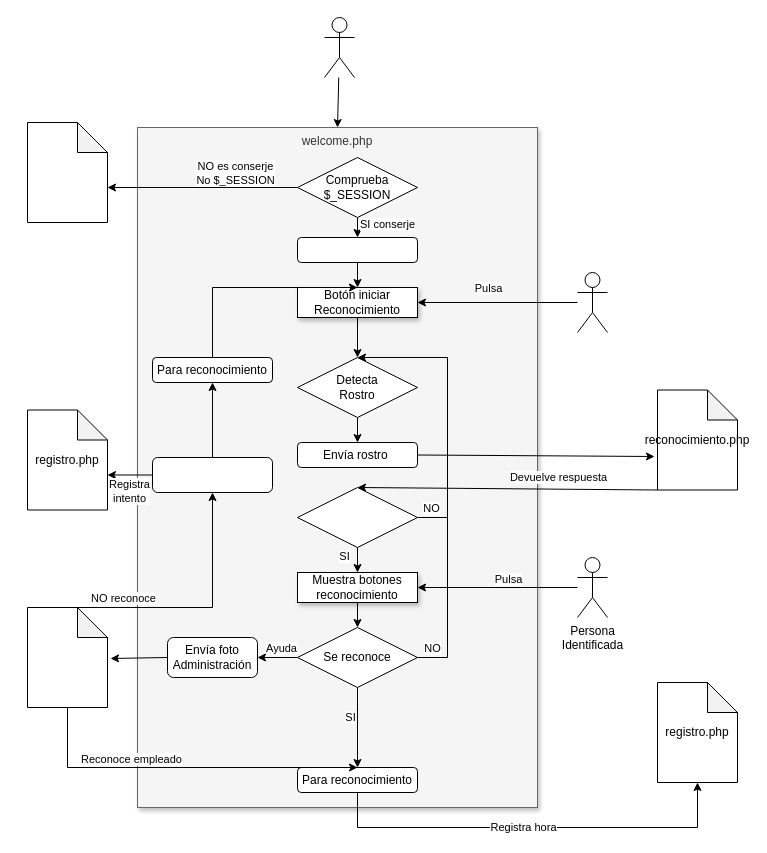
Image size: 767x853. Some labels were removed from this diagram. The shapes that lost their labels are listed below. From the top down, each one's centre as x and y in pixels, then its label:
the point at 339,47: Usuario "Conserje"
the point at 67,172: index.php
the point at 357,249: Activa cámara + RFID
the point at 592,302: Persona No identificada
the point at 212,474: Muestra mensaje de rechazo
the point at 357,517: Reconoce
the point at 67,657: administracion.php
